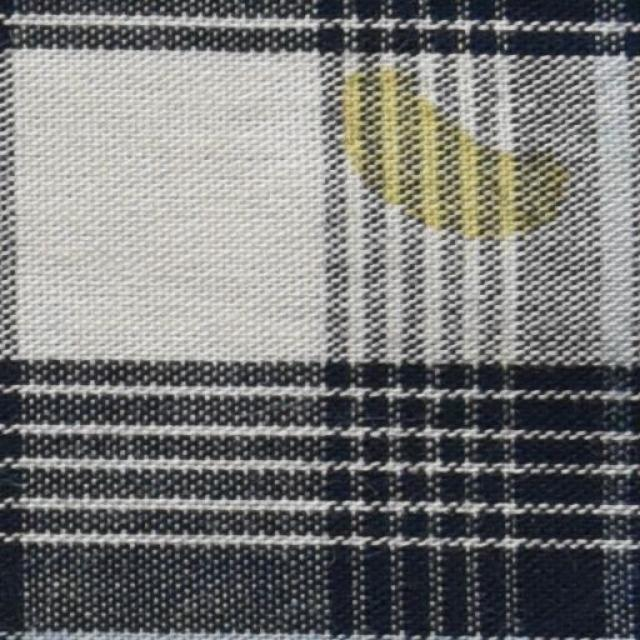Stain: (327, 66, 580, 246)
